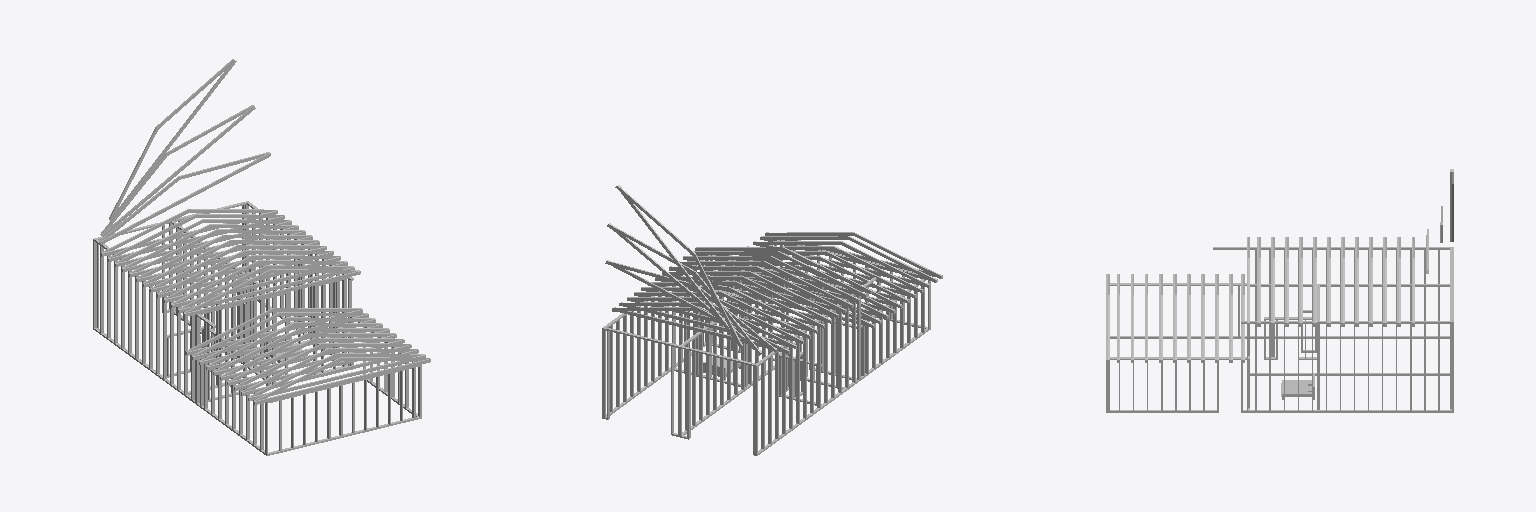
The model's file is weatherford-garage.obj.
3 renders of one model, left to right at view 1: azimuth 30°, elevation 25°; view 2: azimuth 150°, elevation 25°; view 3: azimuth 270°, elevation 25°, orthographic.
Size of the model in its own units: 929 by 1191 by 1584.